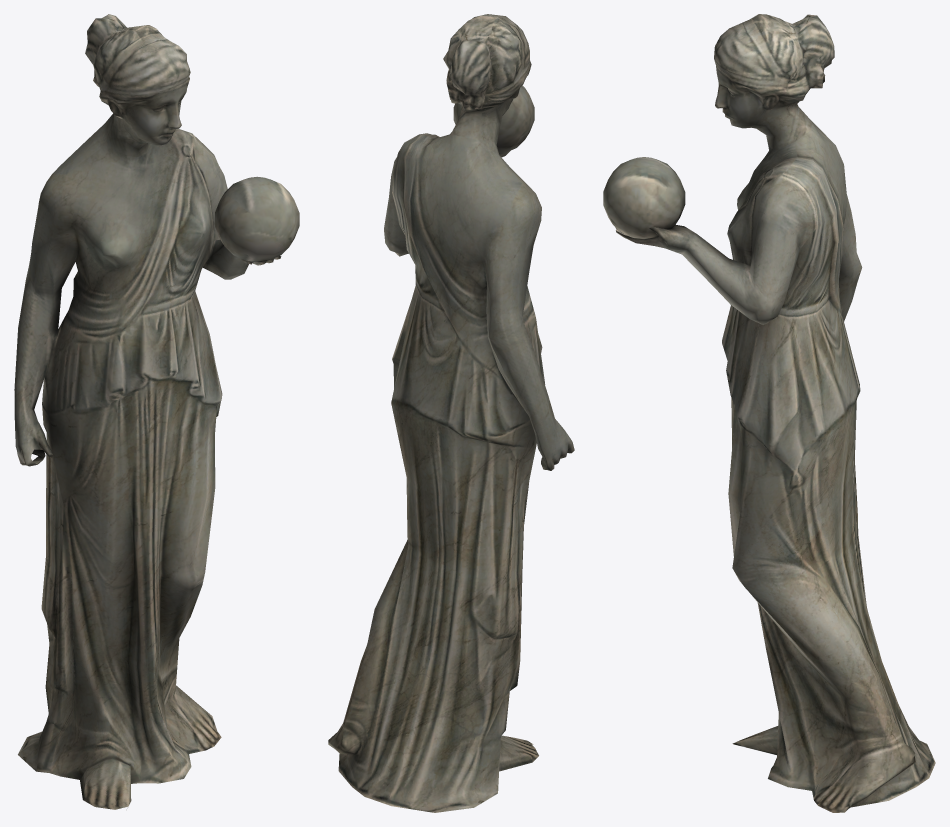
File: Statue.fbx
The picture shows the model from 3 angles, left to right: view 1: azimuth 30°, elevation 25°; view 2: azimuth 150°, elevation 25°; view 3: azimuth 270°, elevation 25°; orthographic projection. The views are drawn at different scales.
Visible parts, largest first — view 1: statue; view 2: statue; view 3: statue.
Part boxes in pixels (left/top/right/bottom): statue: left=14, top=14, right=299, bottom=809; statue: left=328, top=14, right=574, bottom=812; statue: left=603, top=14, right=935, bottom=812.
Bounding box in the file's own units: 1.26 × 4.13 × 1.68.
